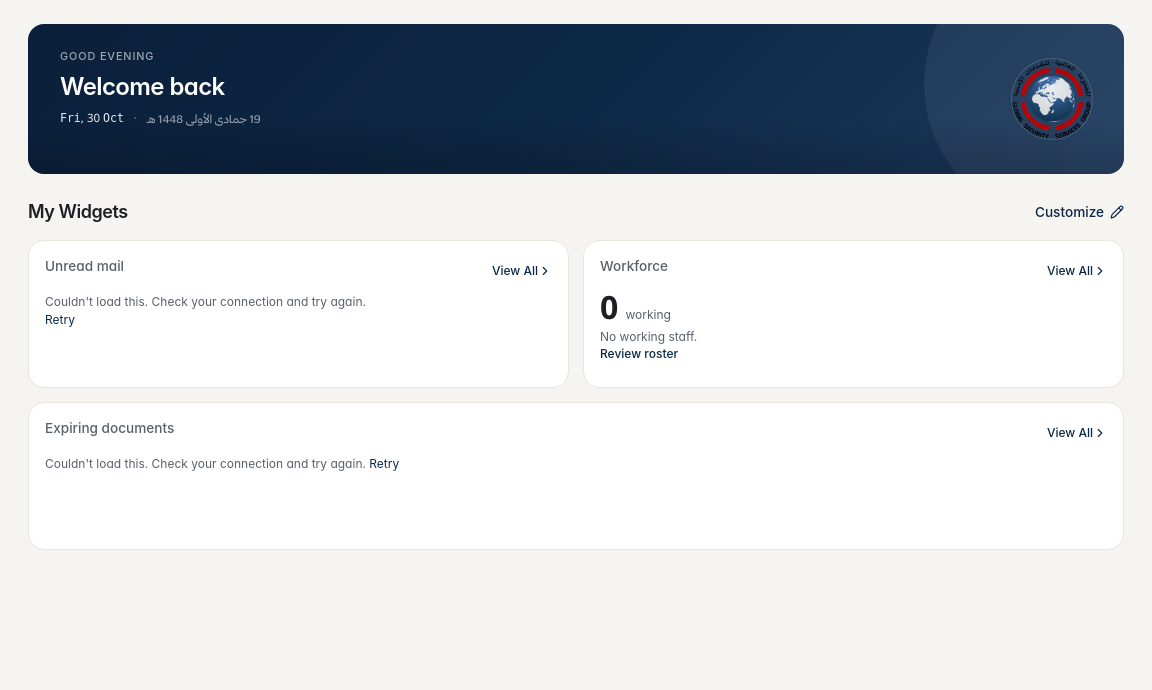
Test: packed per-user dashboard › removes unavailable entries before packing and from the add catalog
This screenshot has width=1152, height=690.
Click the button "Customize" at coordinates (1080, 212), box [1035,202,1124,222]
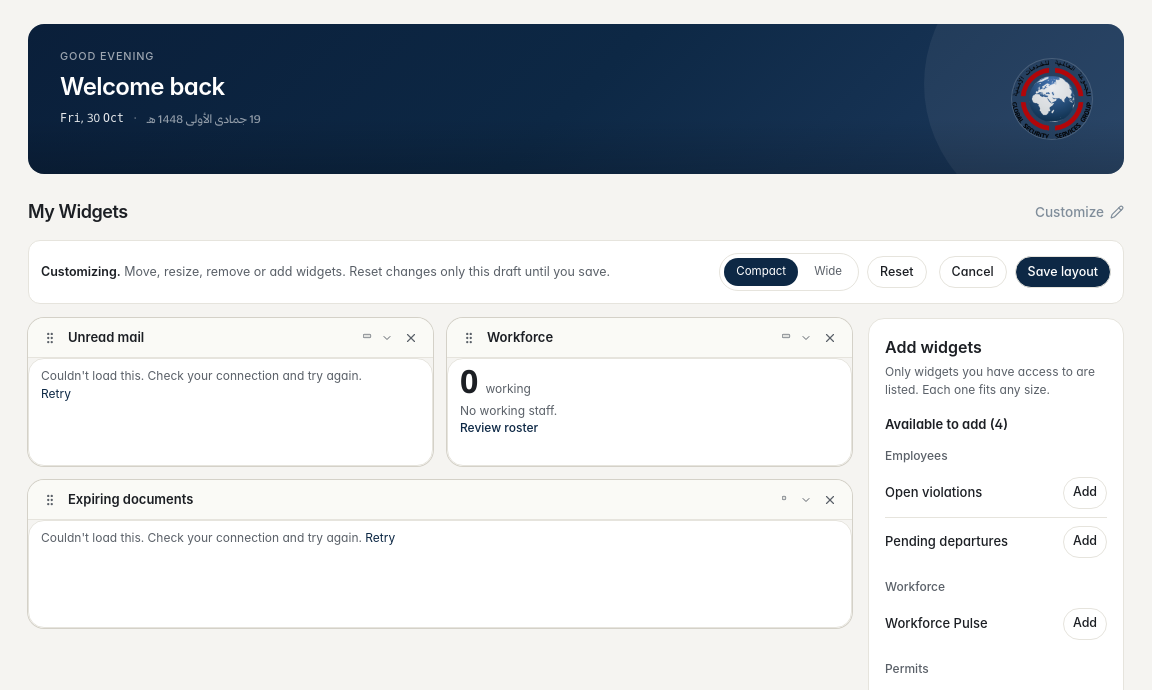
expect the text "Open violations" is shown: met, box [885,484,982,500]
